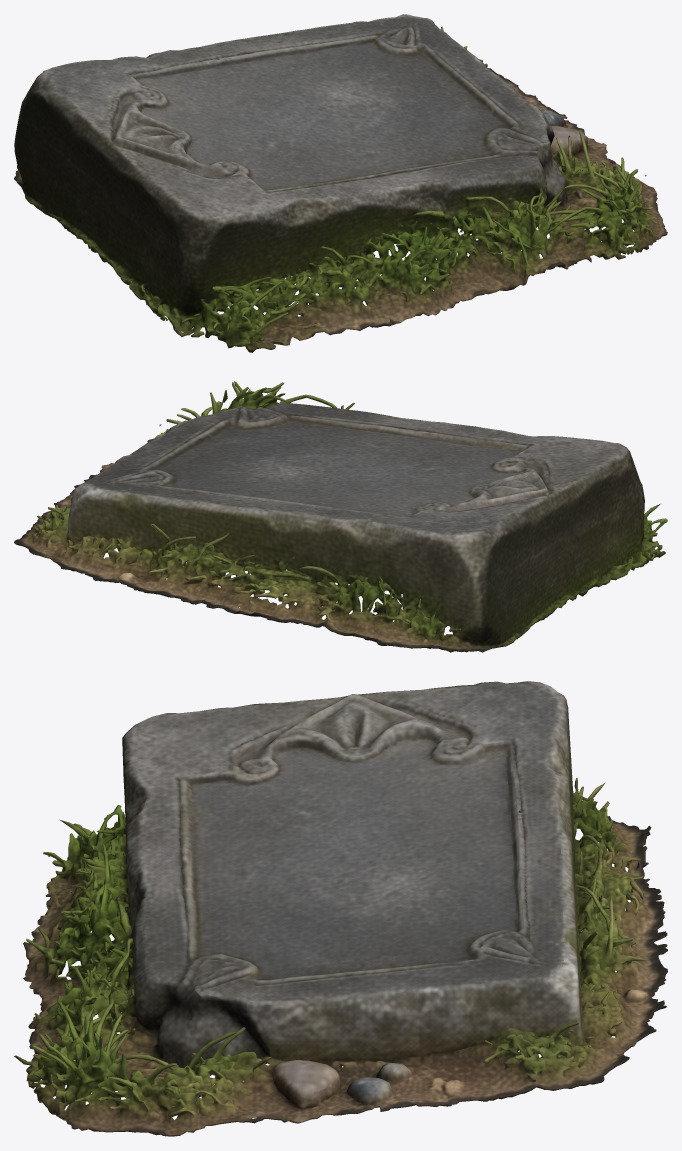
Rendered from grave_06_sunken_ledger_slab.glb.
3 views of the same model, one above another, from view 1: azimuth 30°, elevation 25°; view 2: azimuth 150°, elevation 25°; view 3: azimuth 270°, elevation 25° (orthographic). The views are drawn at different scales.
Visible parts, largest first — view 1: world; view 2: world; view 3: world.
Part boxes in pixels (x1,y1,x2,y2): world: [14, 14, 667, 352]; world: [14, 381, 667, 652]; world: [14, 681, 667, 1136].
Bounding box in the file's own units: 0.989 × 0.2738 × 0.8735.
Materials: 1 (1 with a texture image).
